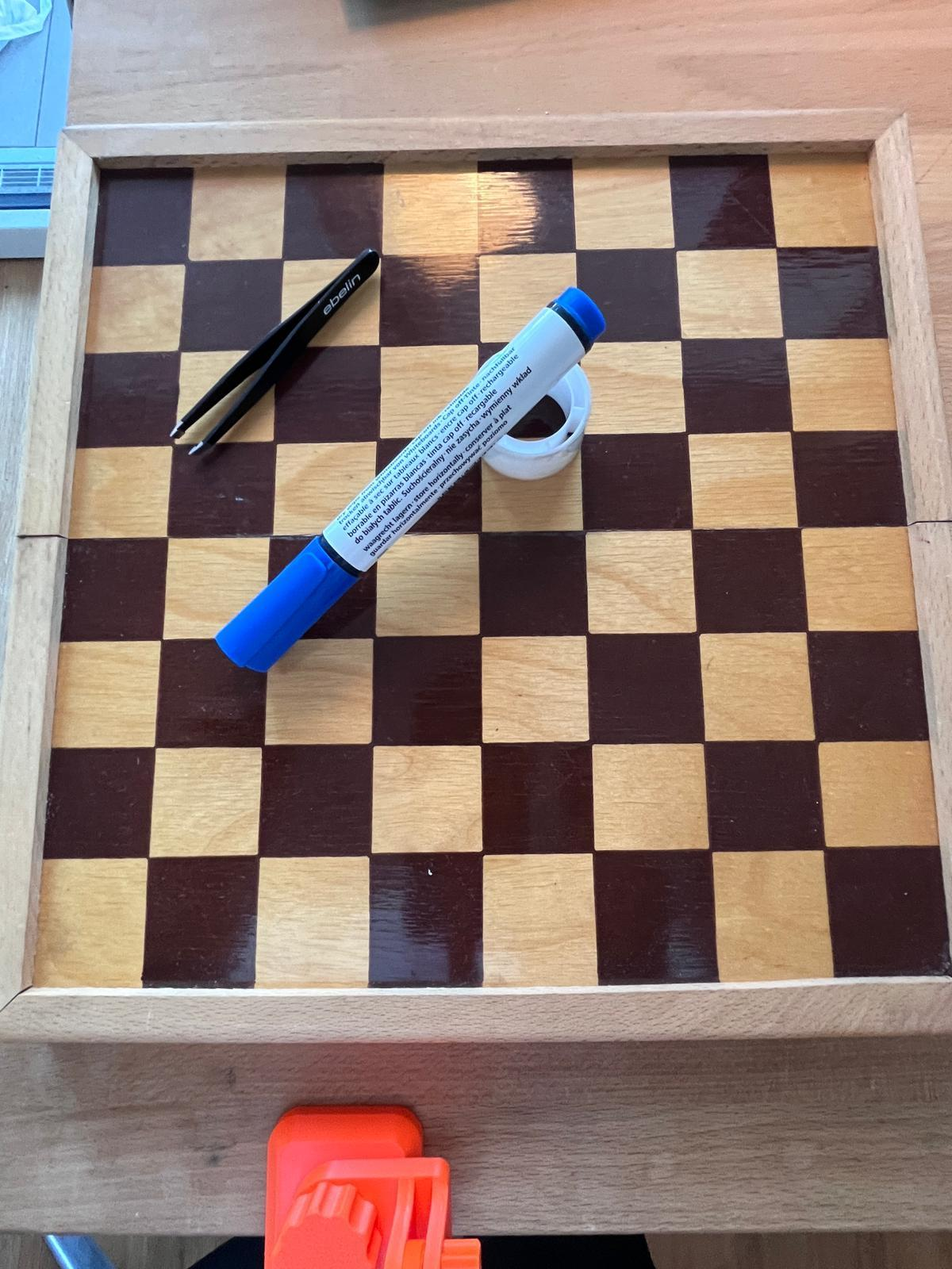marker: (205, 292, 600, 668)
tape: (481, 366, 593, 479)
tweezer: (187, 249, 386, 447)
